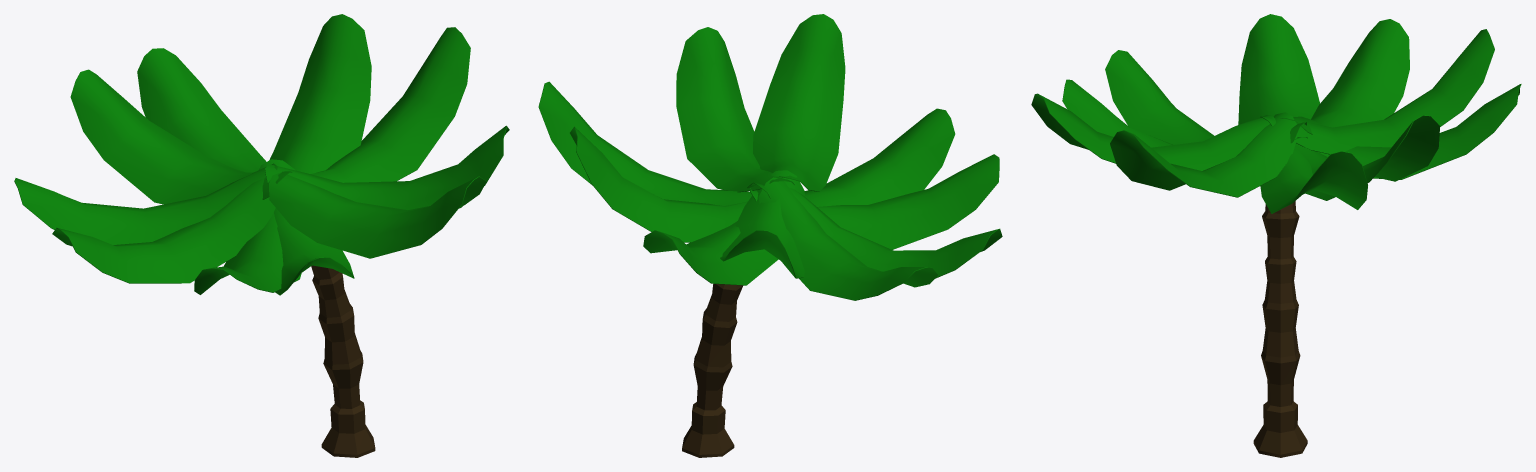
Rendered from Tree.FBX.
3 views of the same model, side by side, from view 1: azimuth 30°, elevation 25°; view 2: azimuth 150°, elevation 25°; view 3: azimuth 270°, elevation 25° (orthographic). The views are drawn at different scales.
Visible parts, largest first — view 1: Cylinder001; view 2: Cylinder001; view 3: Cylinder001.
Part boxes in pixels (x1=…): Cylinder001: x1=14, y1=14, x2=509, y2=457; Cylinder001: x1=538, y1=14, x2=1002, y2=457; Cylinder001: x1=1031, y1=14, x2=1521, y2=457.
Bounding box in the file's own units: 244 × 196 × 240.
